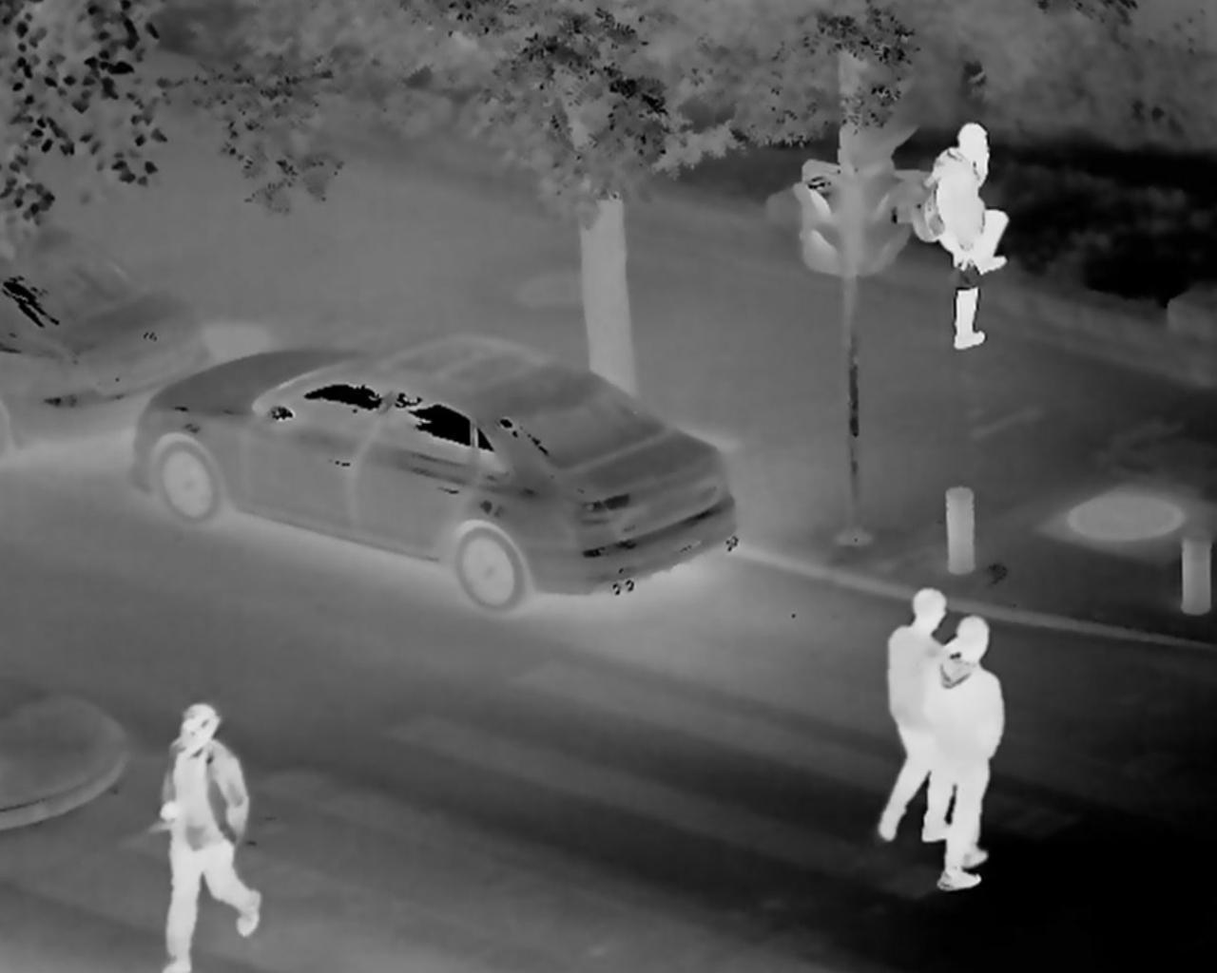person: (151, 702, 274, 972), (875, 585, 962, 843), (914, 122, 1013, 348), (937, 616, 999, 893)
